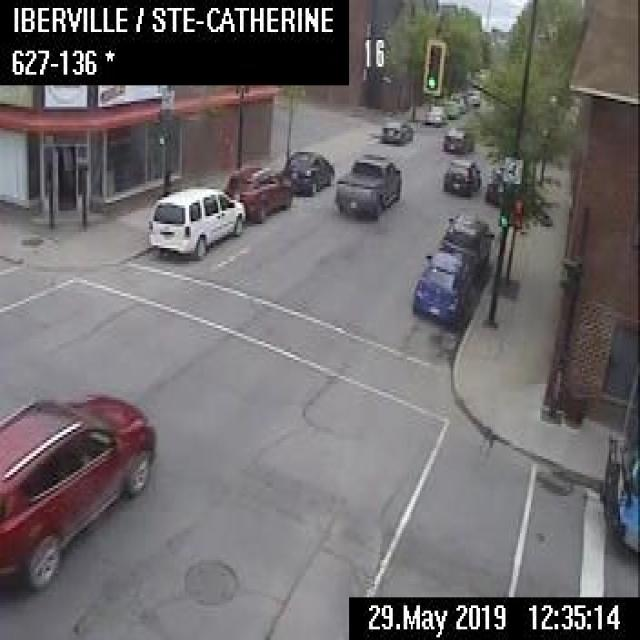bus: (598, 352, 638, 558)
vehicle: (0, 392, 156, 608), (146, 184, 245, 258), (412, 249, 474, 324), (334, 151, 401, 215), (223, 162, 292, 224), (437, 211, 493, 272), (280, 149, 334, 192), (442, 157, 480, 195), (484, 161, 504, 205), (442, 124, 472, 153), (380, 115, 413, 141), (449, 89, 468, 112), (425, 104, 446, 123), (442, 97, 458, 114), (466, 86, 480, 104)
